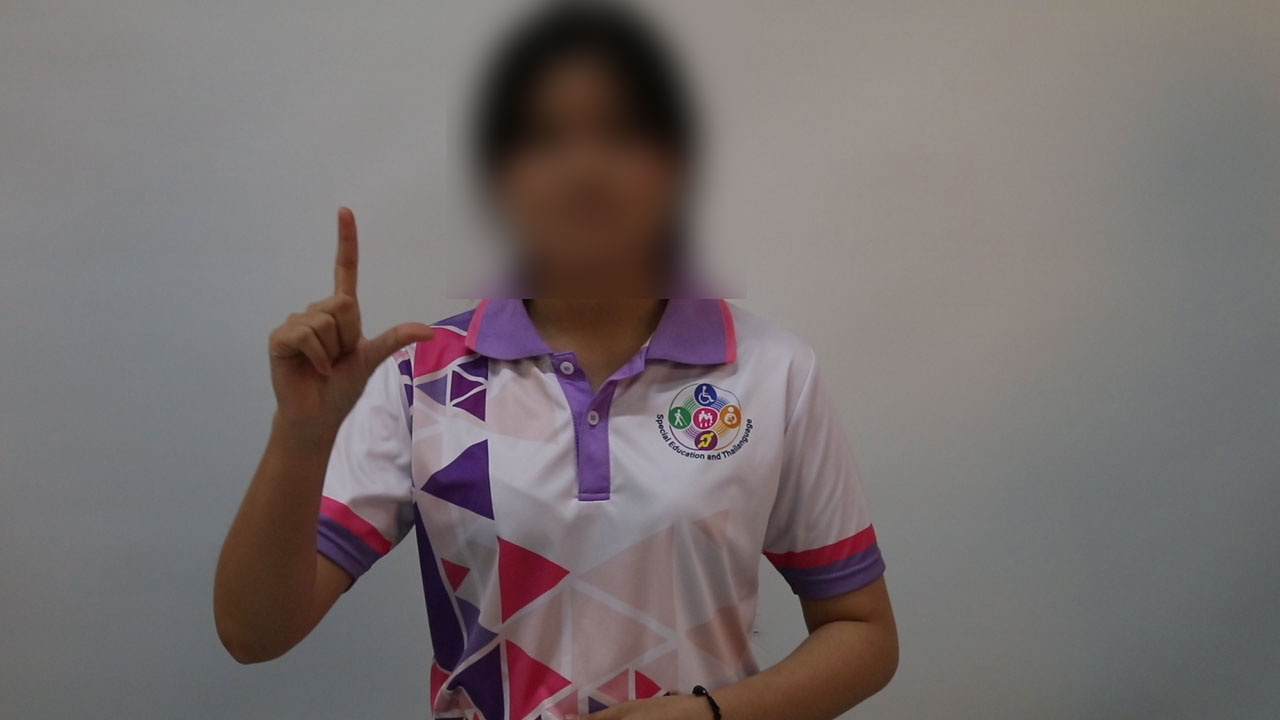lor: (253, 198, 442, 443)
